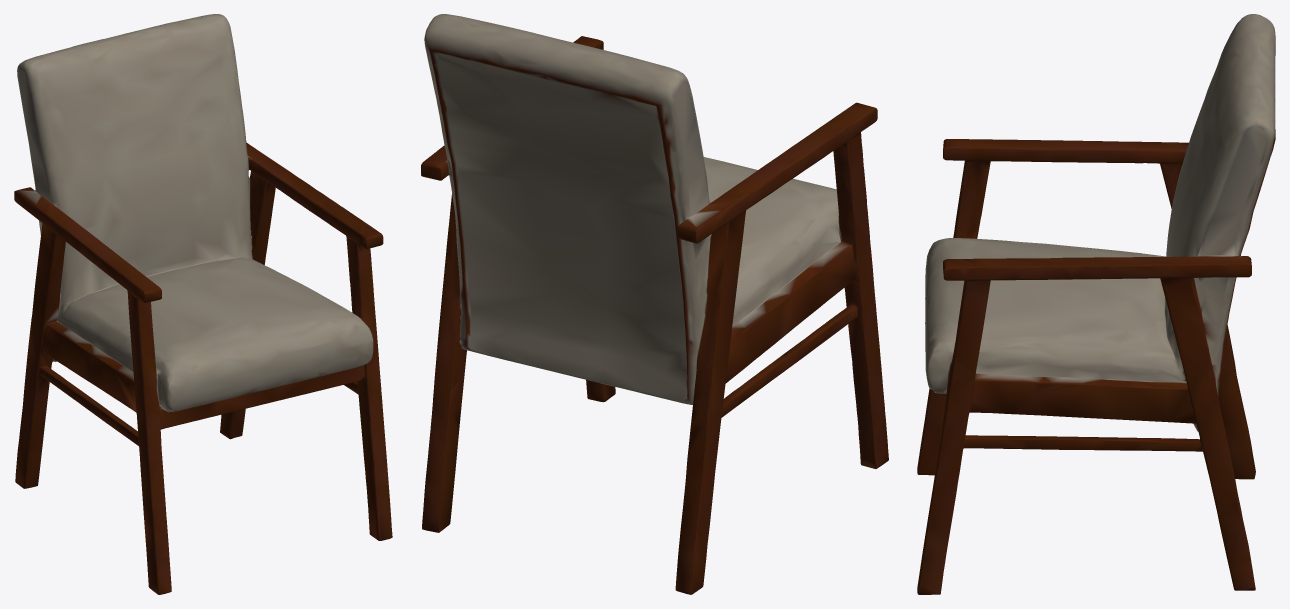
File: dining_chair.glb
3 views of the same model, side by side, from view 1: azimuth 30°, elevation 25°; view 2: azimuth 150°, elevation 25°; view 3: azimuth 270°, elevation 25° (orthographic). The views are drawn at different scales.
Size of the model in its own units: 0.5953 by 1 by 0.6944.
